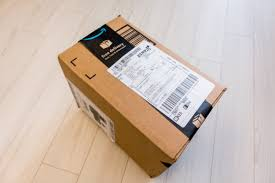undamaged: (58, 15, 228, 179)
